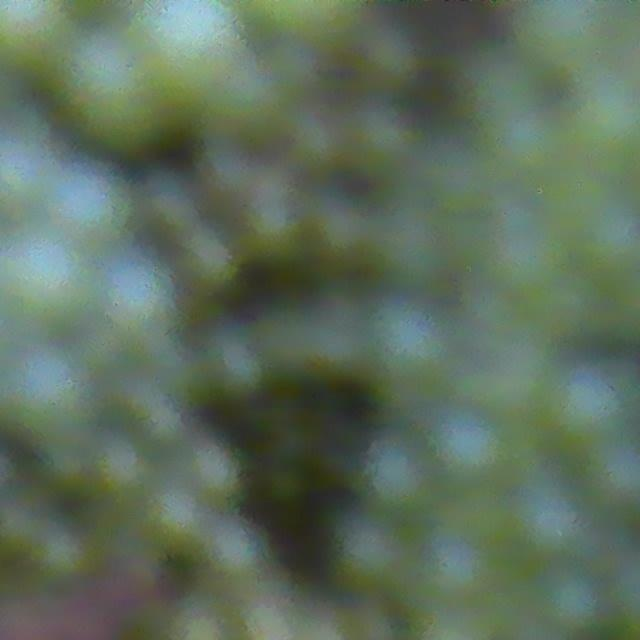SeaGrape: (60, 29, 162, 141), (135, 0, 241, 102), (543, 356, 635, 444), (1, 239, 92, 326), (8, 355, 94, 445), (367, 305, 447, 393), (502, 480, 584, 563), (409, 530, 491, 611), (426, 410, 506, 493), (51, 169, 129, 247), (92, 260, 173, 333), (325, 514, 408, 580), (0, 131, 61, 219), (535, 565, 607, 638), (0, 0, 64, 75), (364, 444, 430, 515), (205, 517, 268, 580)
